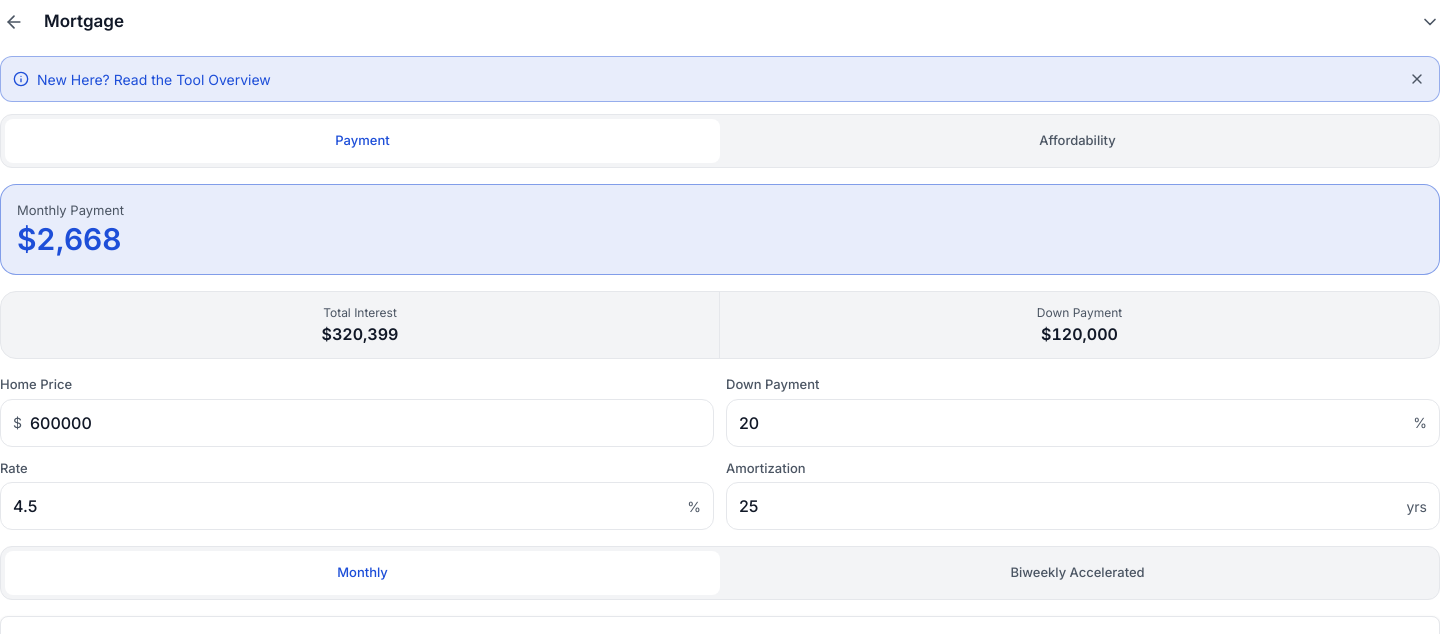
Test: PlannerTool tool-overview on a phone › opening the info marks the tool as seen
The image size is (1440, 634).
Click the button "New Here? Read the Tool Overview": (154,79) [13,57,1395,101]
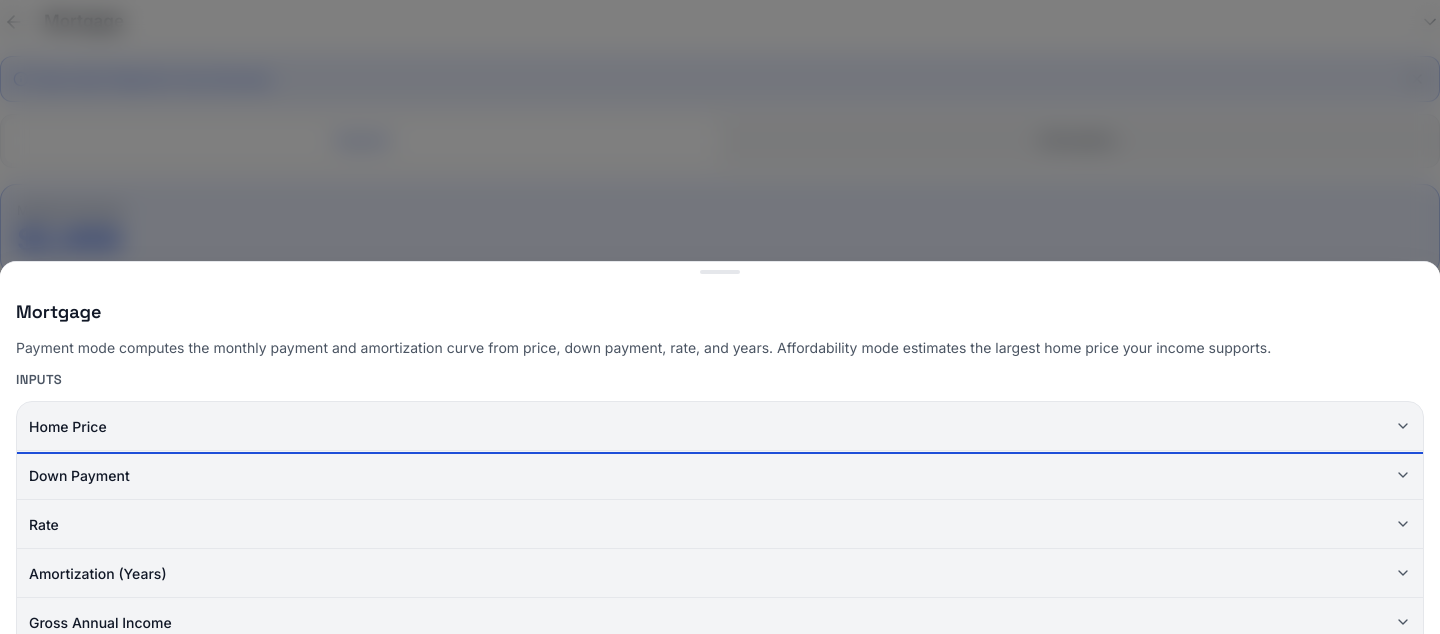
Now the dialog with test id "sheet-panel" shows "Payment mode computes the monthly payment and amortization curve from price, down payment, rate, and years. Affordability mode estimates the largest home price", box [16,338,1271,356]
